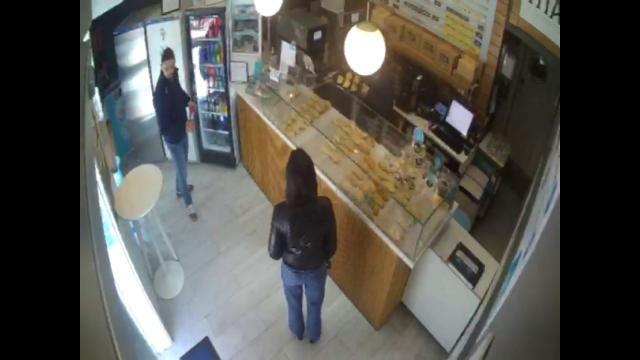cliente: (268, 148, 337, 342), (154, 48, 196, 218)
empleado: (353, 61, 396, 126)
